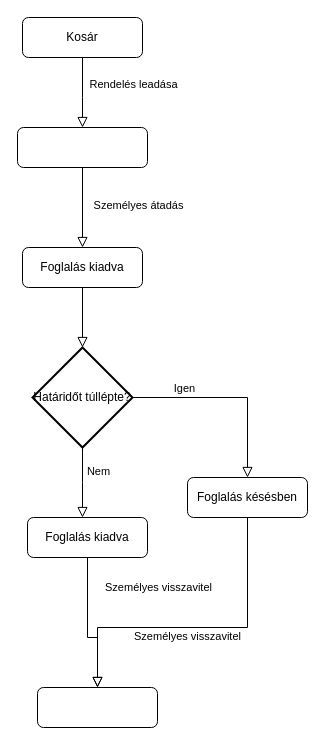
Some shapes in this 325 by 745 pixel diagram are drawn without their labels. The shapes that lost their labels are listed below. From the top down, each one's centre as x and y in pixels, then its label:
(x=82, y=147): Foglalás függőben
(x=97, y=707): Foglalás visszahozva
